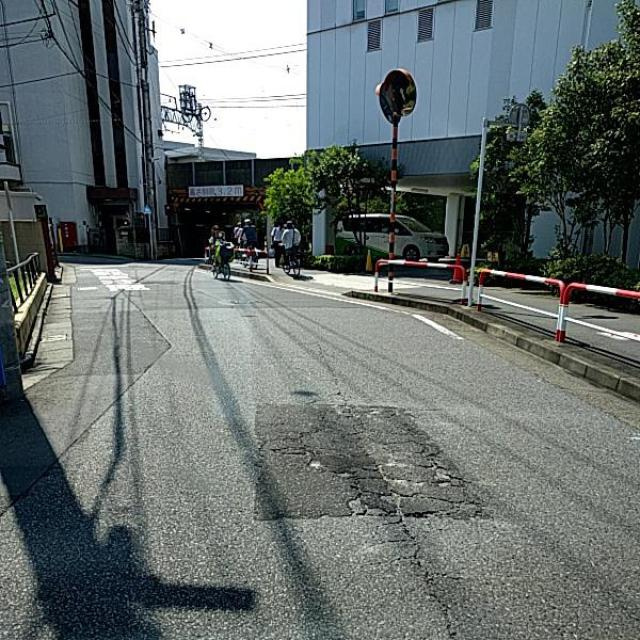Crack: (172, 266, 588, 640)
